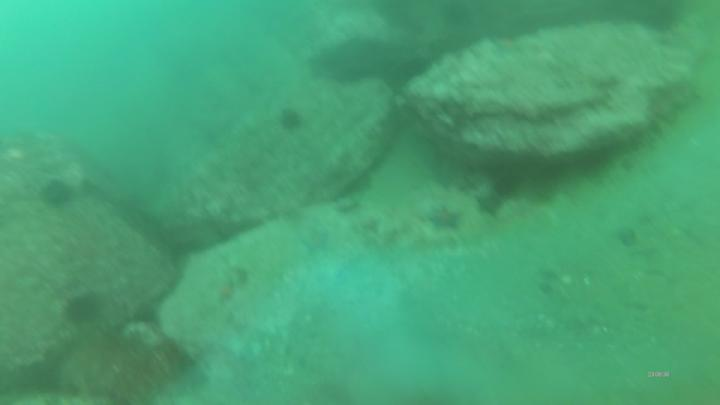echinus: (58, 292, 101, 326), (39, 177, 77, 211), (277, 110, 306, 132)
starfish: (426, 207, 461, 237), (474, 184, 505, 213)
